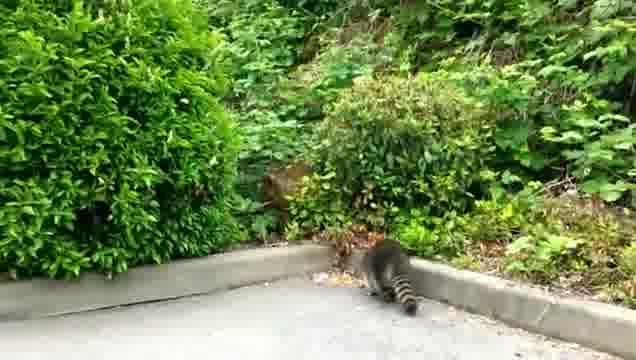raccoon: (359, 241, 422, 317)
